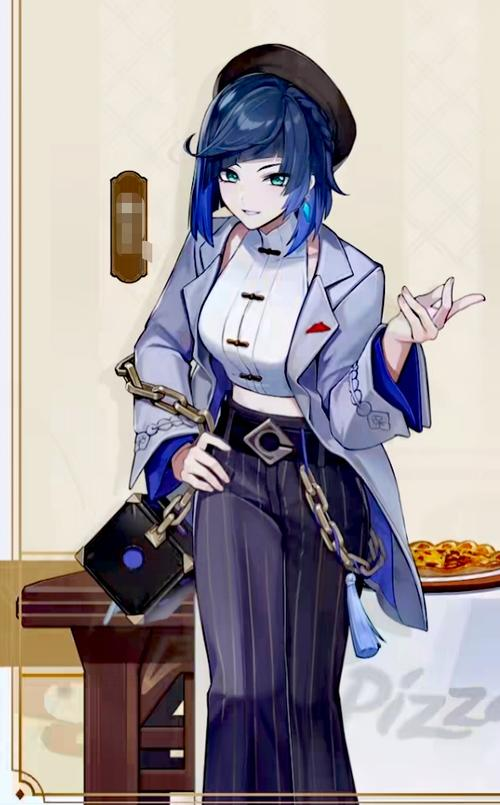夜兰: (129, 42, 489, 805)
